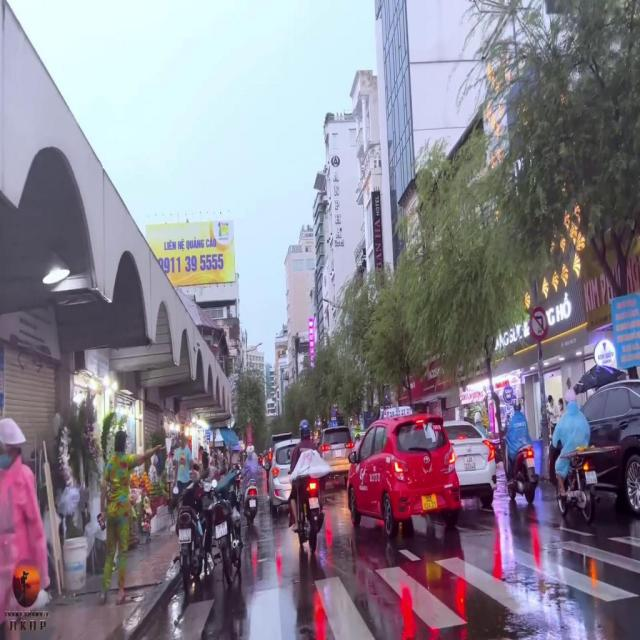cam_o_to_re_trai: (529, 307, 548, 341)
